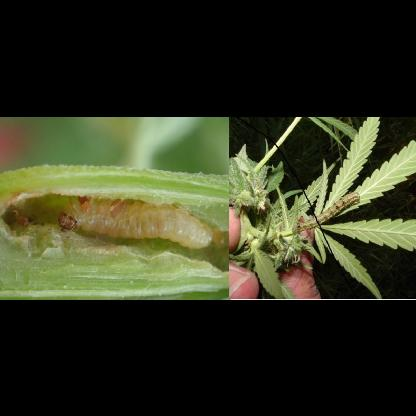oruga: (51, 188, 218, 250), (298, 210, 324, 233)
